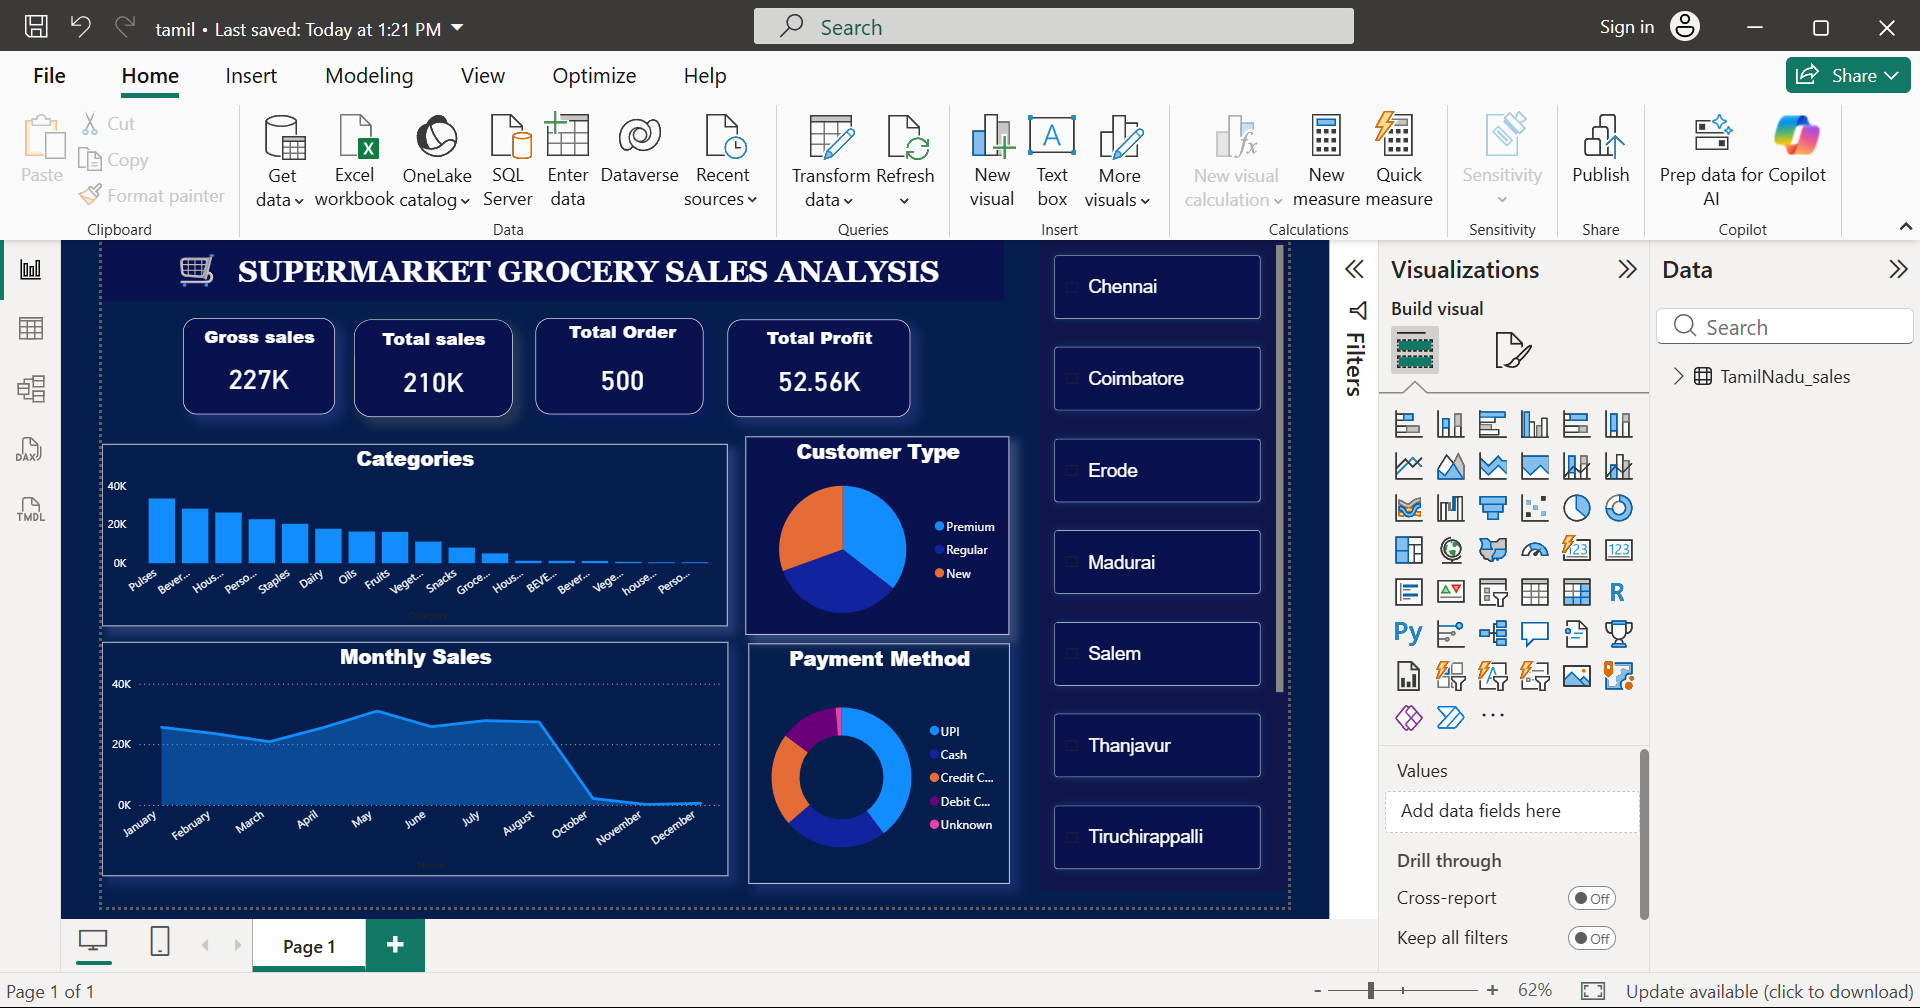

What the dashboard file says about the page in this screenshot:
{"tool":"powerbi","page":{"name":"Page 1","canvas":[1280,720],"ordinal":0},"visuals":[{"type":"card","title":"Total sales","fields":{"Values":["Sum(TamilNadu_sales.Net_sales)"]},"box":[272.2,86.3,171.2,105.4],"z":0},{"type":"card","title":"Total Order","fields":{"Values":["TamilNadu_sales.Total Orders"]},"box":[468.3,84.9,181.5,103.9],"z":1000},{"type":"areaChart","title":"Monthly Sales","fields":{"Category":["TamilNadu_sales.Order_Date.Variation.Date Hierarchy.Month"],"Y":["TamilNadu_sales.Total_sales"]},"box":[0,434.3,675.7,252.9],"z":2000},{"type":"clusteredColumnChart","title":"Categories","fields":{"Category":["TamilNadu_sales.Category"],"Y":["TamilNadu_sales.Total_sales"]},"box":[0,220,675,196.7],"z":3000},{"type":"donutChart","title":"Payment Method","fields":{"Category":["TamilNadu_sales.Payment_Method"],"Y":["TamilNadu_sales.Total_sales"]},"box":[697.9,435.6,281.7,259.1],"z":4000},{"type":"pieChart","title":"Customer Type","fields":{"Category":["TamilNadu_sales.Customer_Type"],"Y":["TamilNadu_sales.Total_sales"]},"box":[694.6,212.1,285,213.7],"z":5000},{"type":"advancedSlicerVisual","fields":{"Values":["TamilNadu_sales.City"]},"box":[1011.7,0,268.3,701.7],"z":6000},{"type":"textbox","box":[0,0,974.3,65.7],"z":7000},{"type":"card","title":"Gross sales","fields":{"Values":["Sum(TamilNadu_sales.Gross_sales)"]},"box":[87.8,84.9,163.9,103.9],"z":8000},{"type":"card","title":"Total Profit","fields":{"Values":["TamilNadu_sales.Total profit"]},"box":[674.6,86.3,197.6,105.4],"z":9000}]}

Visuals, with their boxes on the page's 1280x720 design canvas (x1, y1, x2, y2). These are canvas units, not pixel positions in the 1920x1008 screenshot, which may show the page scaled, cropped or inside an application window:
"Total sales" card: 272,86,443,192
"Total Order" card: 468,85,650,189
"Monthly Sales" areaChart: 0,434,676,687
"Categories" clusteredColumnChart: 0,220,675,417
"Payment Method" donutChart: 698,436,980,695
"Customer Type" pieChart: 695,212,980,426
advancedSlicerVisual - TamilNadu_sales.City: 1012,0,1280,702
textbox: 0,0,974,66
"Gross sales" card: 88,85,252,189
"Total Profit" card: 675,86,872,192
